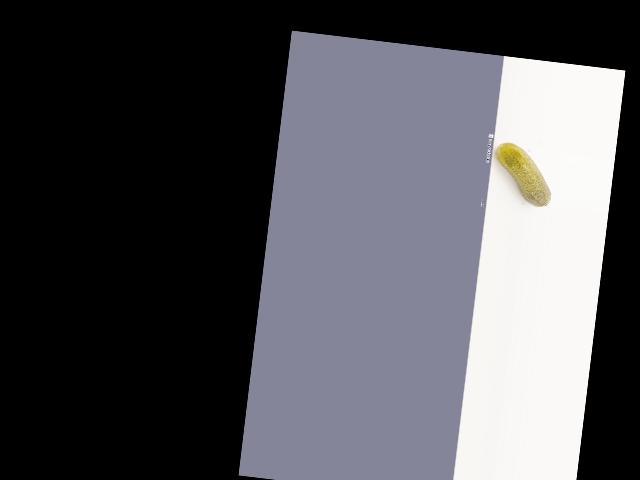cucumber: (489, 141, 556, 208)
